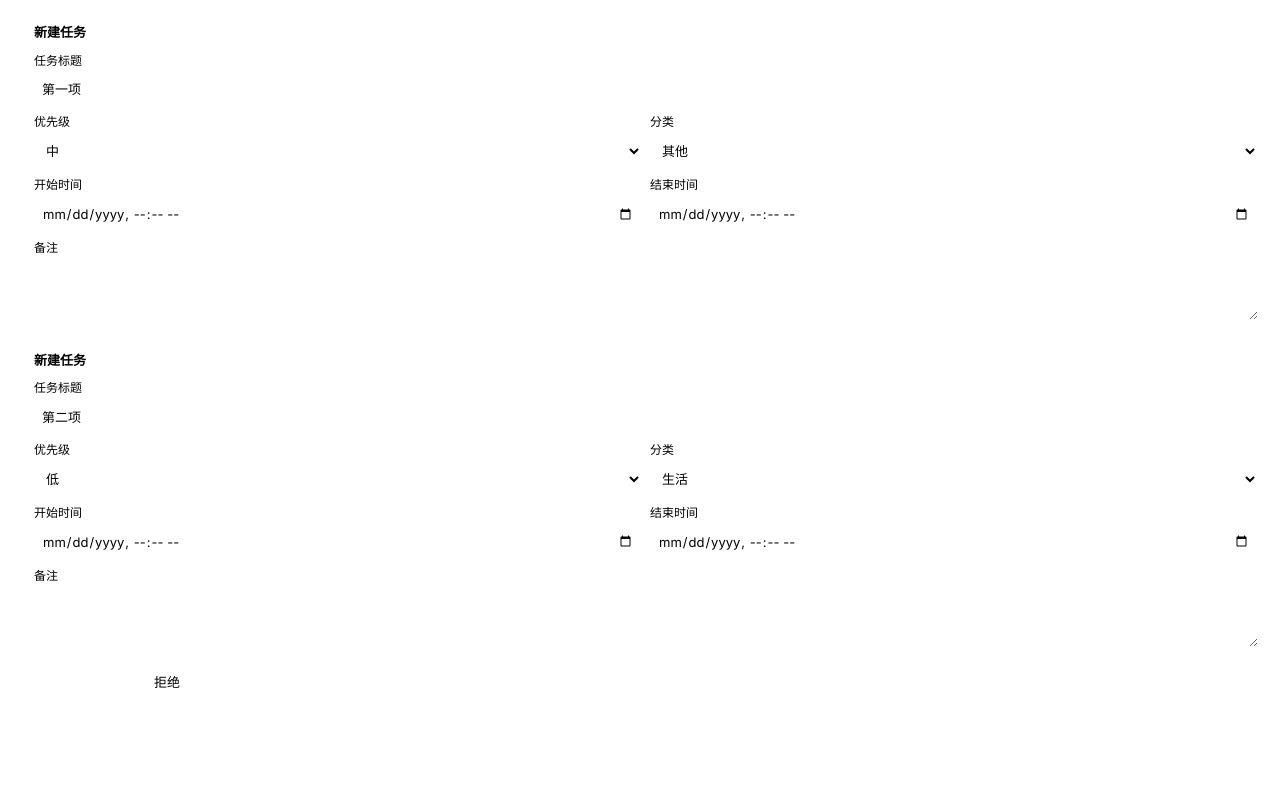
Scenario: proposal cards › shows a local error for an invalid time range
The image size is (1280, 800).
Step 1. Type "2026-07-22T18:00" into the 1st field labelled "开始时间" → [338, 214], box [34,198,642,230]
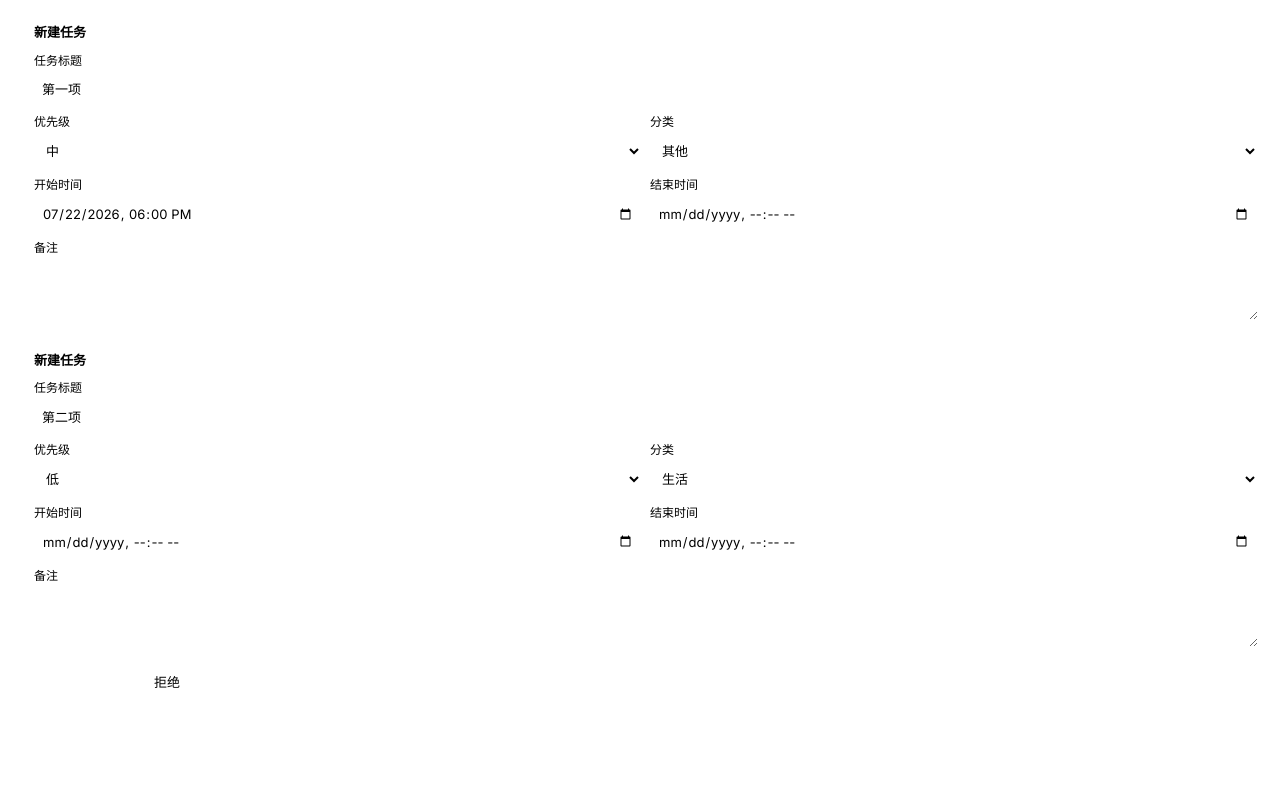
Step 2. Type "2026-07-22T17:00" into the 1st field labelled "结束时间" → [954, 214], box [650,198,1258,230]
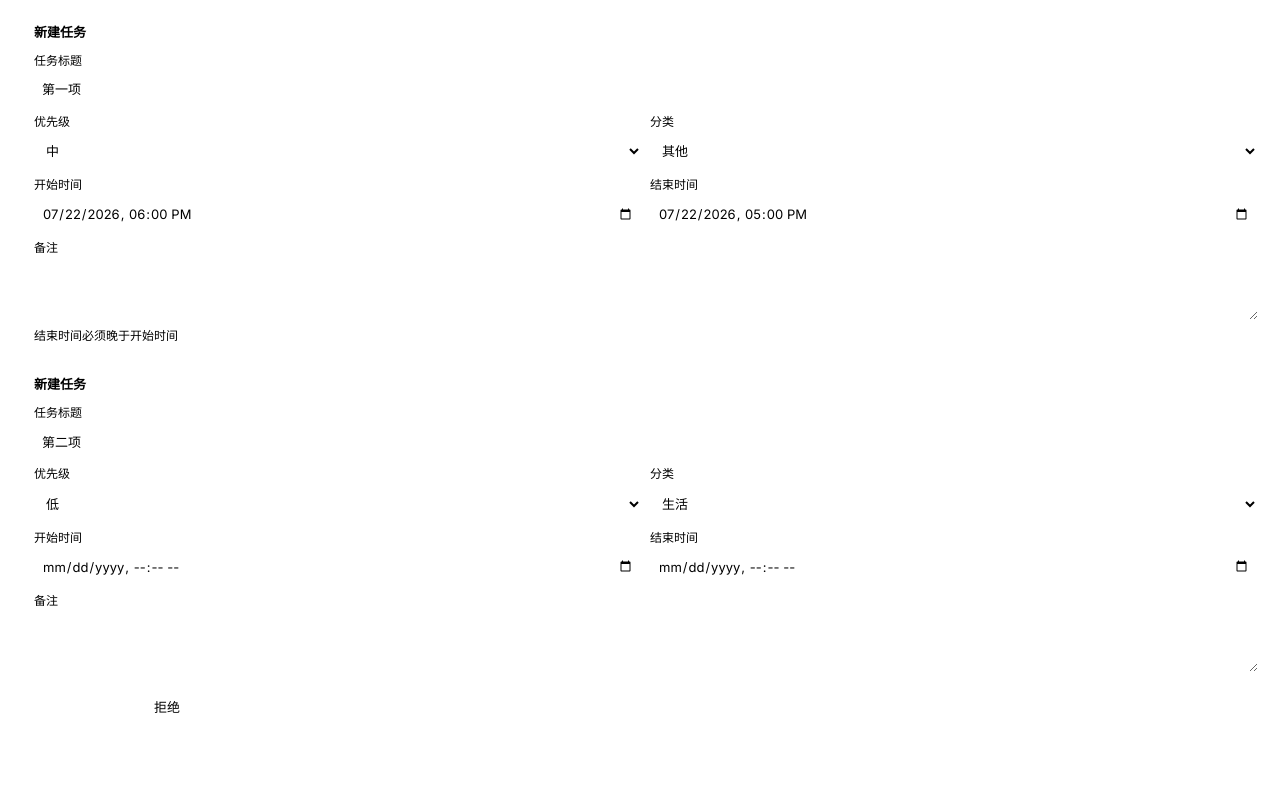
Expected: the text "结束时间必须晚于开始时间" is shown, [34,328,178,342]
